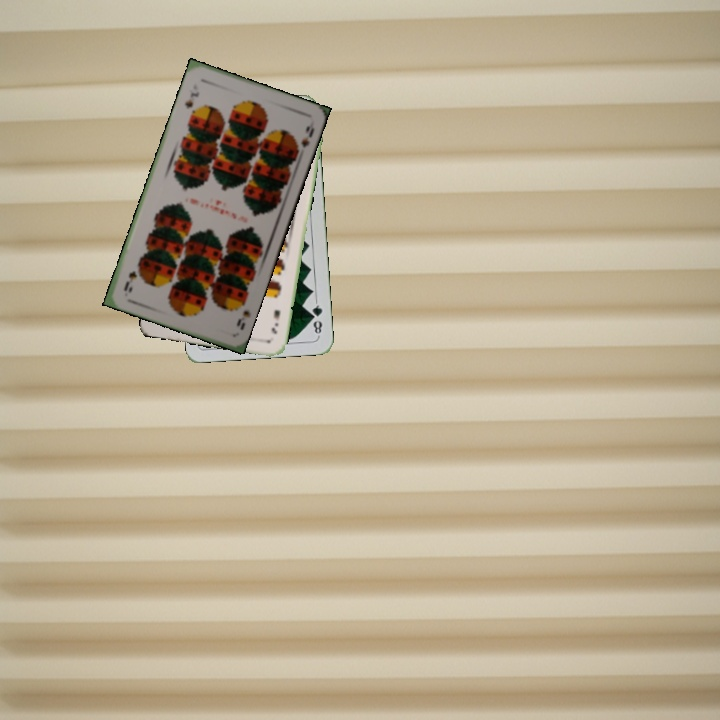E7: (267, 306, 283, 336)
G8: (307, 298, 325, 338)
S9: (232, 295, 252, 333), (180, 88, 202, 111)
